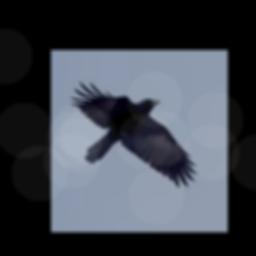Crow: (70, 81, 197, 186)
